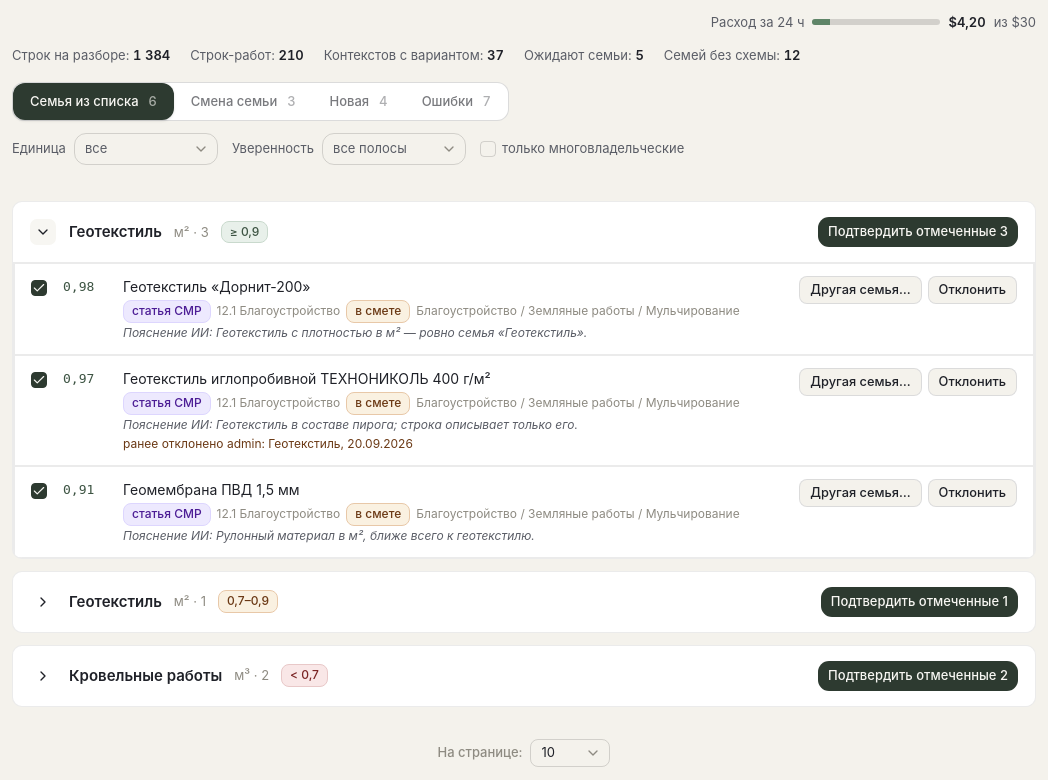
Test: SuggestionsTab — фильтры › «без единицы» шлёт unit=none, а не пропускает параметр
What coordinates should you click on to do the following:
click the dropdown named "Единица"
I would click on:
 (146, 149)
Its box is [74,133,218,165].
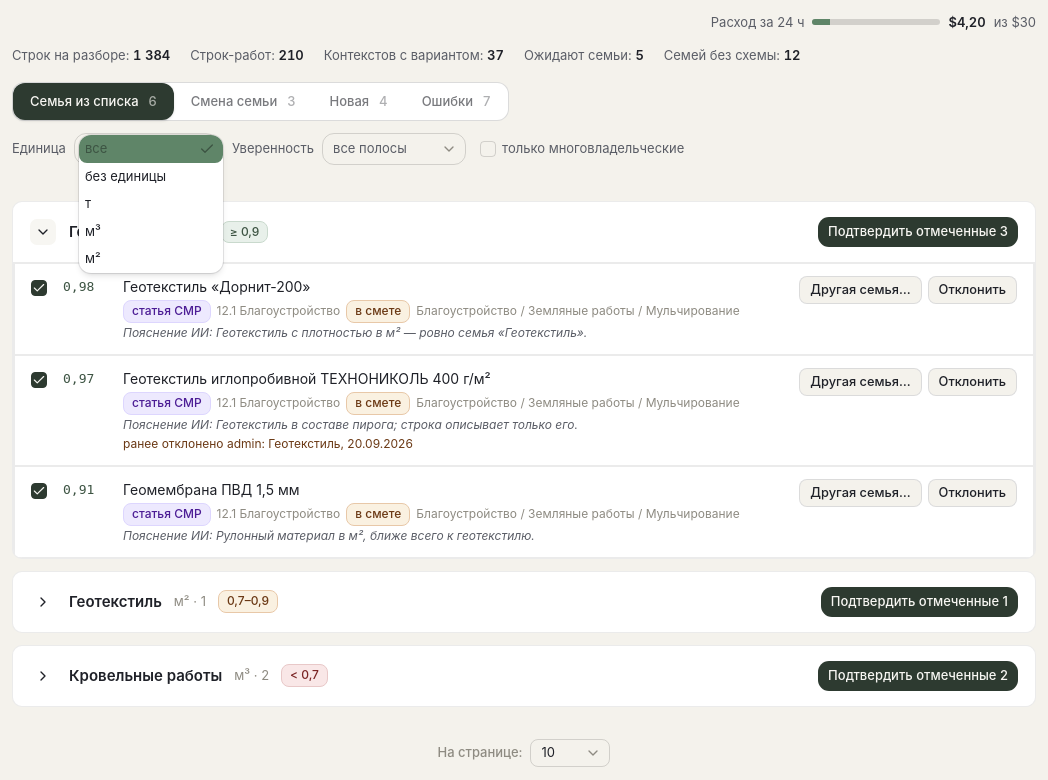
What coordinates should you click on to do the following:
click the option "без единицы"
I would click on:
 (126, 176)
Its box is [85,168,166,184].
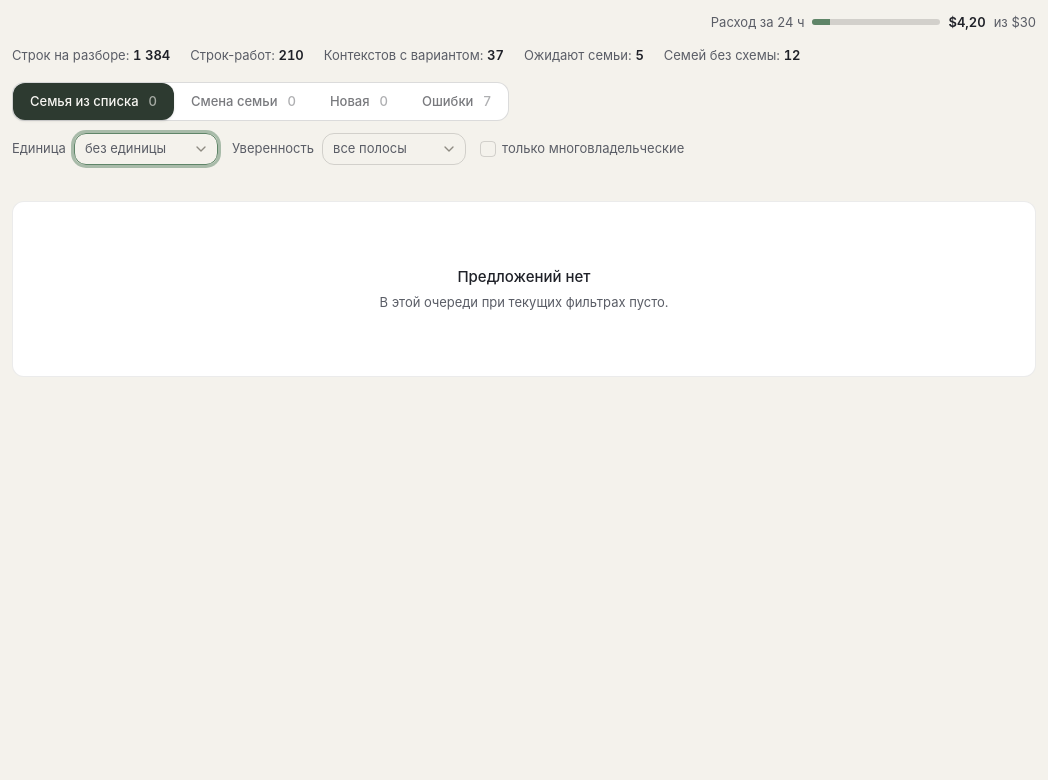
Expected: the text "В этой очереди при текущих фильтрах пусто." is shown, [380,293,668,312]
